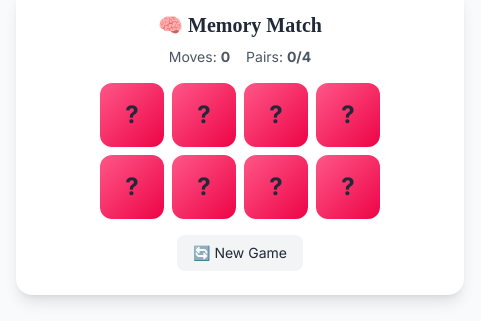
MemoryMatch game › counts a move after two cards flipped
Click the 1st button "?".
click(132, 115)  # box [100, 83, 164, 147]
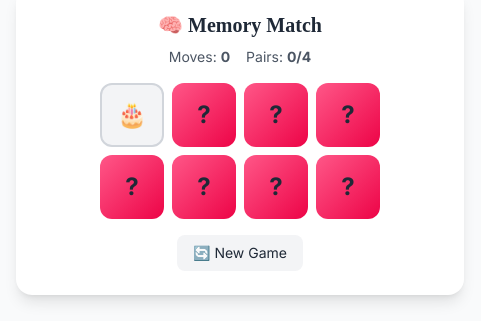
Click the 1st button "?".
click(204, 115)  # box [172, 83, 236, 147]
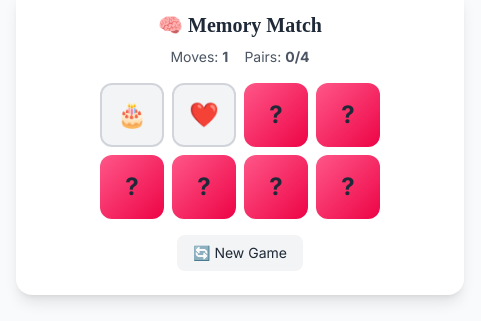
Expected: the text "Moves:" is shown, [170, 48, 222, 65]
Expected: the text "1" is shown, [222, 48, 228, 65]
